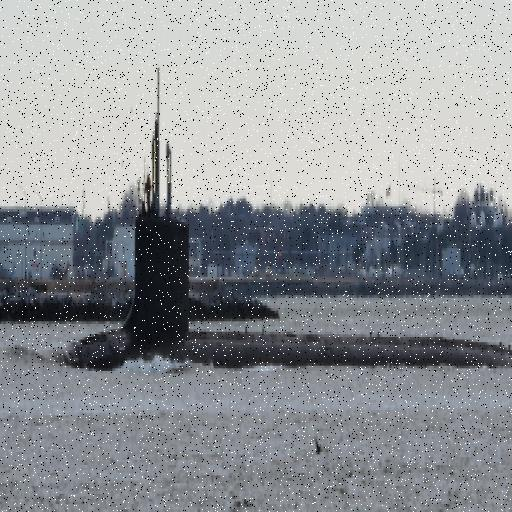submarine: (60, 218, 512, 372)
